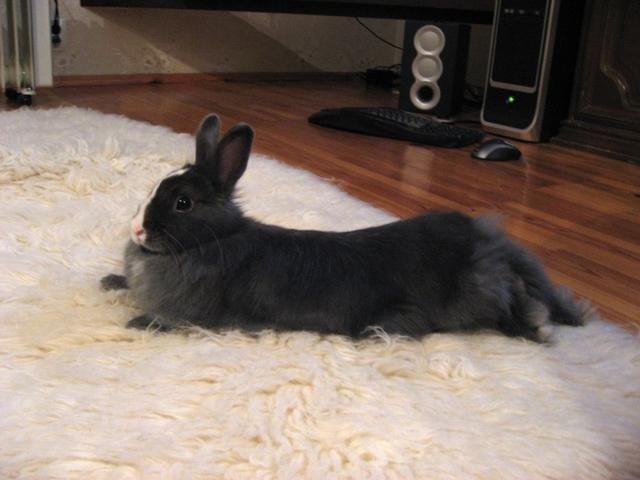rabbit: (98, 93, 640, 332)
